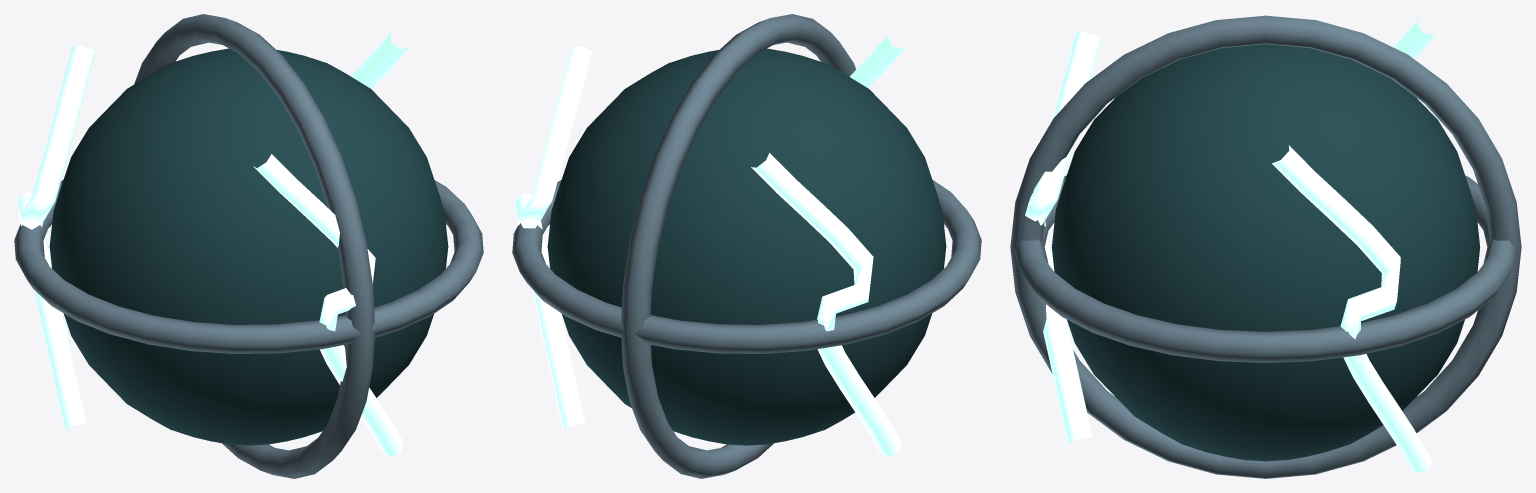
The model's file is shock.glb.
The picture shows the model from 3 angles, left to right: view 1: azimuth 30°, elevation 25°; view 2: azimuth 150°, elevation 25°; view 3: azimuth 270°, elevation 25°; orthographic projection. The views are drawn at different scales.
Parts seen in each view (by area): view 1: ball-shock; view 2: ball-shock; view 3: ball-shock.
Part boxes in pixels (left/top/right/bottom): ball-shock: left=14, top=14, right=483, bottom=478; ball-shock: left=512, top=14, right=981, bottom=478; ball-shock: left=1010, top=15, right=1521, bottom=478.
Size of the model in its own units: 1.77 by 1.79 by 1.79.
